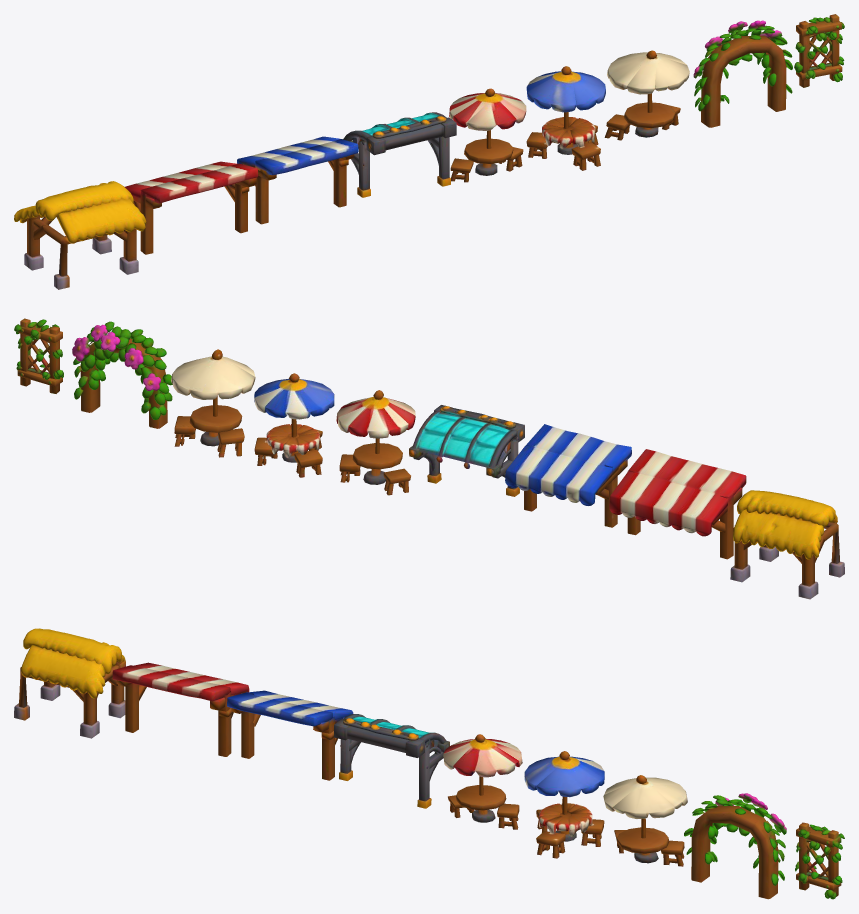
The model's file is stall_pieces.glb.
3 renders of one model, top to bottom at view 1: azimuth 30°, elevation 25°; view 2: azimuth 150°, elevation 25°; view 3: azimuth 330°, elevation 25°, orthographic.
Visible parts, largest first — view 1: Stall_Thatch, RoseArch_Garden, ParasolTable_Blue, ParasolTable_Cream, Stall_RedStripe, ParasolTable_Red, Stall_BlueStripe, Canopy_Glass, Trellis_Ivy; view 2: Stall_RedStripe, Stall_BlueStripe, Stall_Thatch, Canopy_Glass, RoseArch_Garden, ParasolTable_Cream, ParasolTable_Blue, ParasolTable_Red, Trellis_Ivy; view 3: Stall_Thatch, RoseArch_Garden, ParasolTable_Blue, ParasolTable_Cream, ParasolTable_Red, Stall_RedStripe, Canopy_Glass, Stall_BlueStripe, Trellis_Ivy.
Boxes of the visible parts, x1,y1,x2,y2 form: Stall_Thatch: [14, 181, 146, 289]; RoseArch_Garden: [693, 20, 792, 127]; ParasolTable_Blue: [526, 66, 605, 170]; ParasolTable_Cream: [604, 50, 689, 140]; Stall_RedStripe: [125, 161, 258, 254]; ParasolTable_Red: [449, 88, 526, 182]; Stall_BlueStripe: [237, 136, 358, 224]; Canopy_Glass: [342, 112, 456, 197]; Trellis_Ivy: [794, 14, 844, 87]; Stall_RedStripe: [609, 449, 746, 559]; Stall_BlueStripe: [505, 424, 631, 527]; Stall_Thatch: [730, 490, 844, 599]; Canopy_Glass: [409, 405, 524, 496]; RoseArch_Garden: [72, 321, 172, 428]; ParasolTable_Cream: [171, 349, 255, 457]; ParasolTable_Blue: [254, 373, 334, 477]; ParasolTable_Red: [336, 390, 415, 495]; Trellis_Ivy: [14, 318, 63, 393]; Stall_Thatch: [14, 628, 125, 738]; RoseArch_Garden: [684, 793, 786, 899]; ParasolTable_Blue: [524, 751, 604, 858]; ParasolTable_Cream: [603, 775, 687, 866]; ParasolTable_Red: [443, 734, 522, 829]; Stall_RedStripe: [112, 662, 249, 756]; Canopy_Glass: [334, 714, 449, 808]; Stall_BlueStripe: [227, 690, 353, 780]; Trellis_Ivy: [795, 822, 844, 899].
Size of the model in its own units: 76.86 by 8 by 6.93.
Materials: 1 (1 with a texture image).
